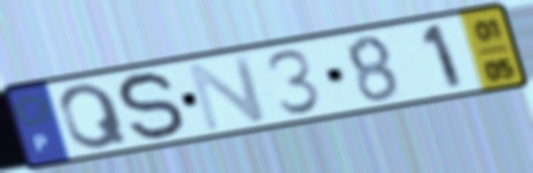1: (420, 20, 468, 93)
3: (265, 47, 324, 118)
8: (346, 34, 403, 106)
N: (184, 52, 271, 135)
Q: (56, 80, 132, 152)
S: (115, 68, 189, 145)
